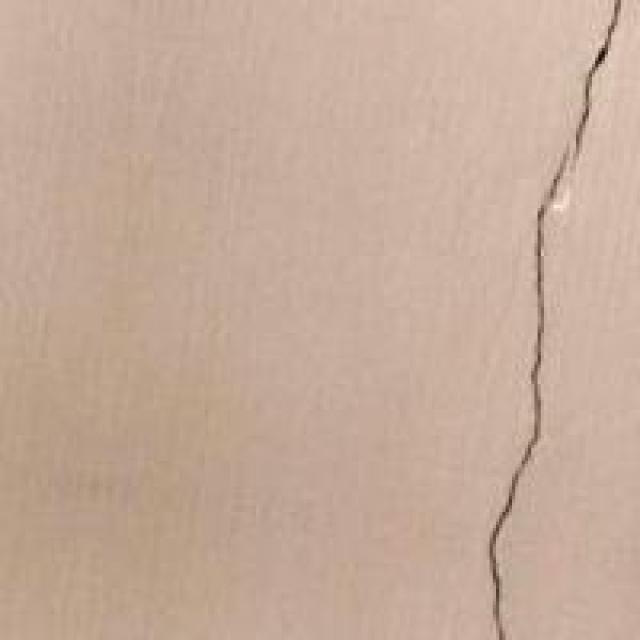Crack: (454, 0, 637, 637)
